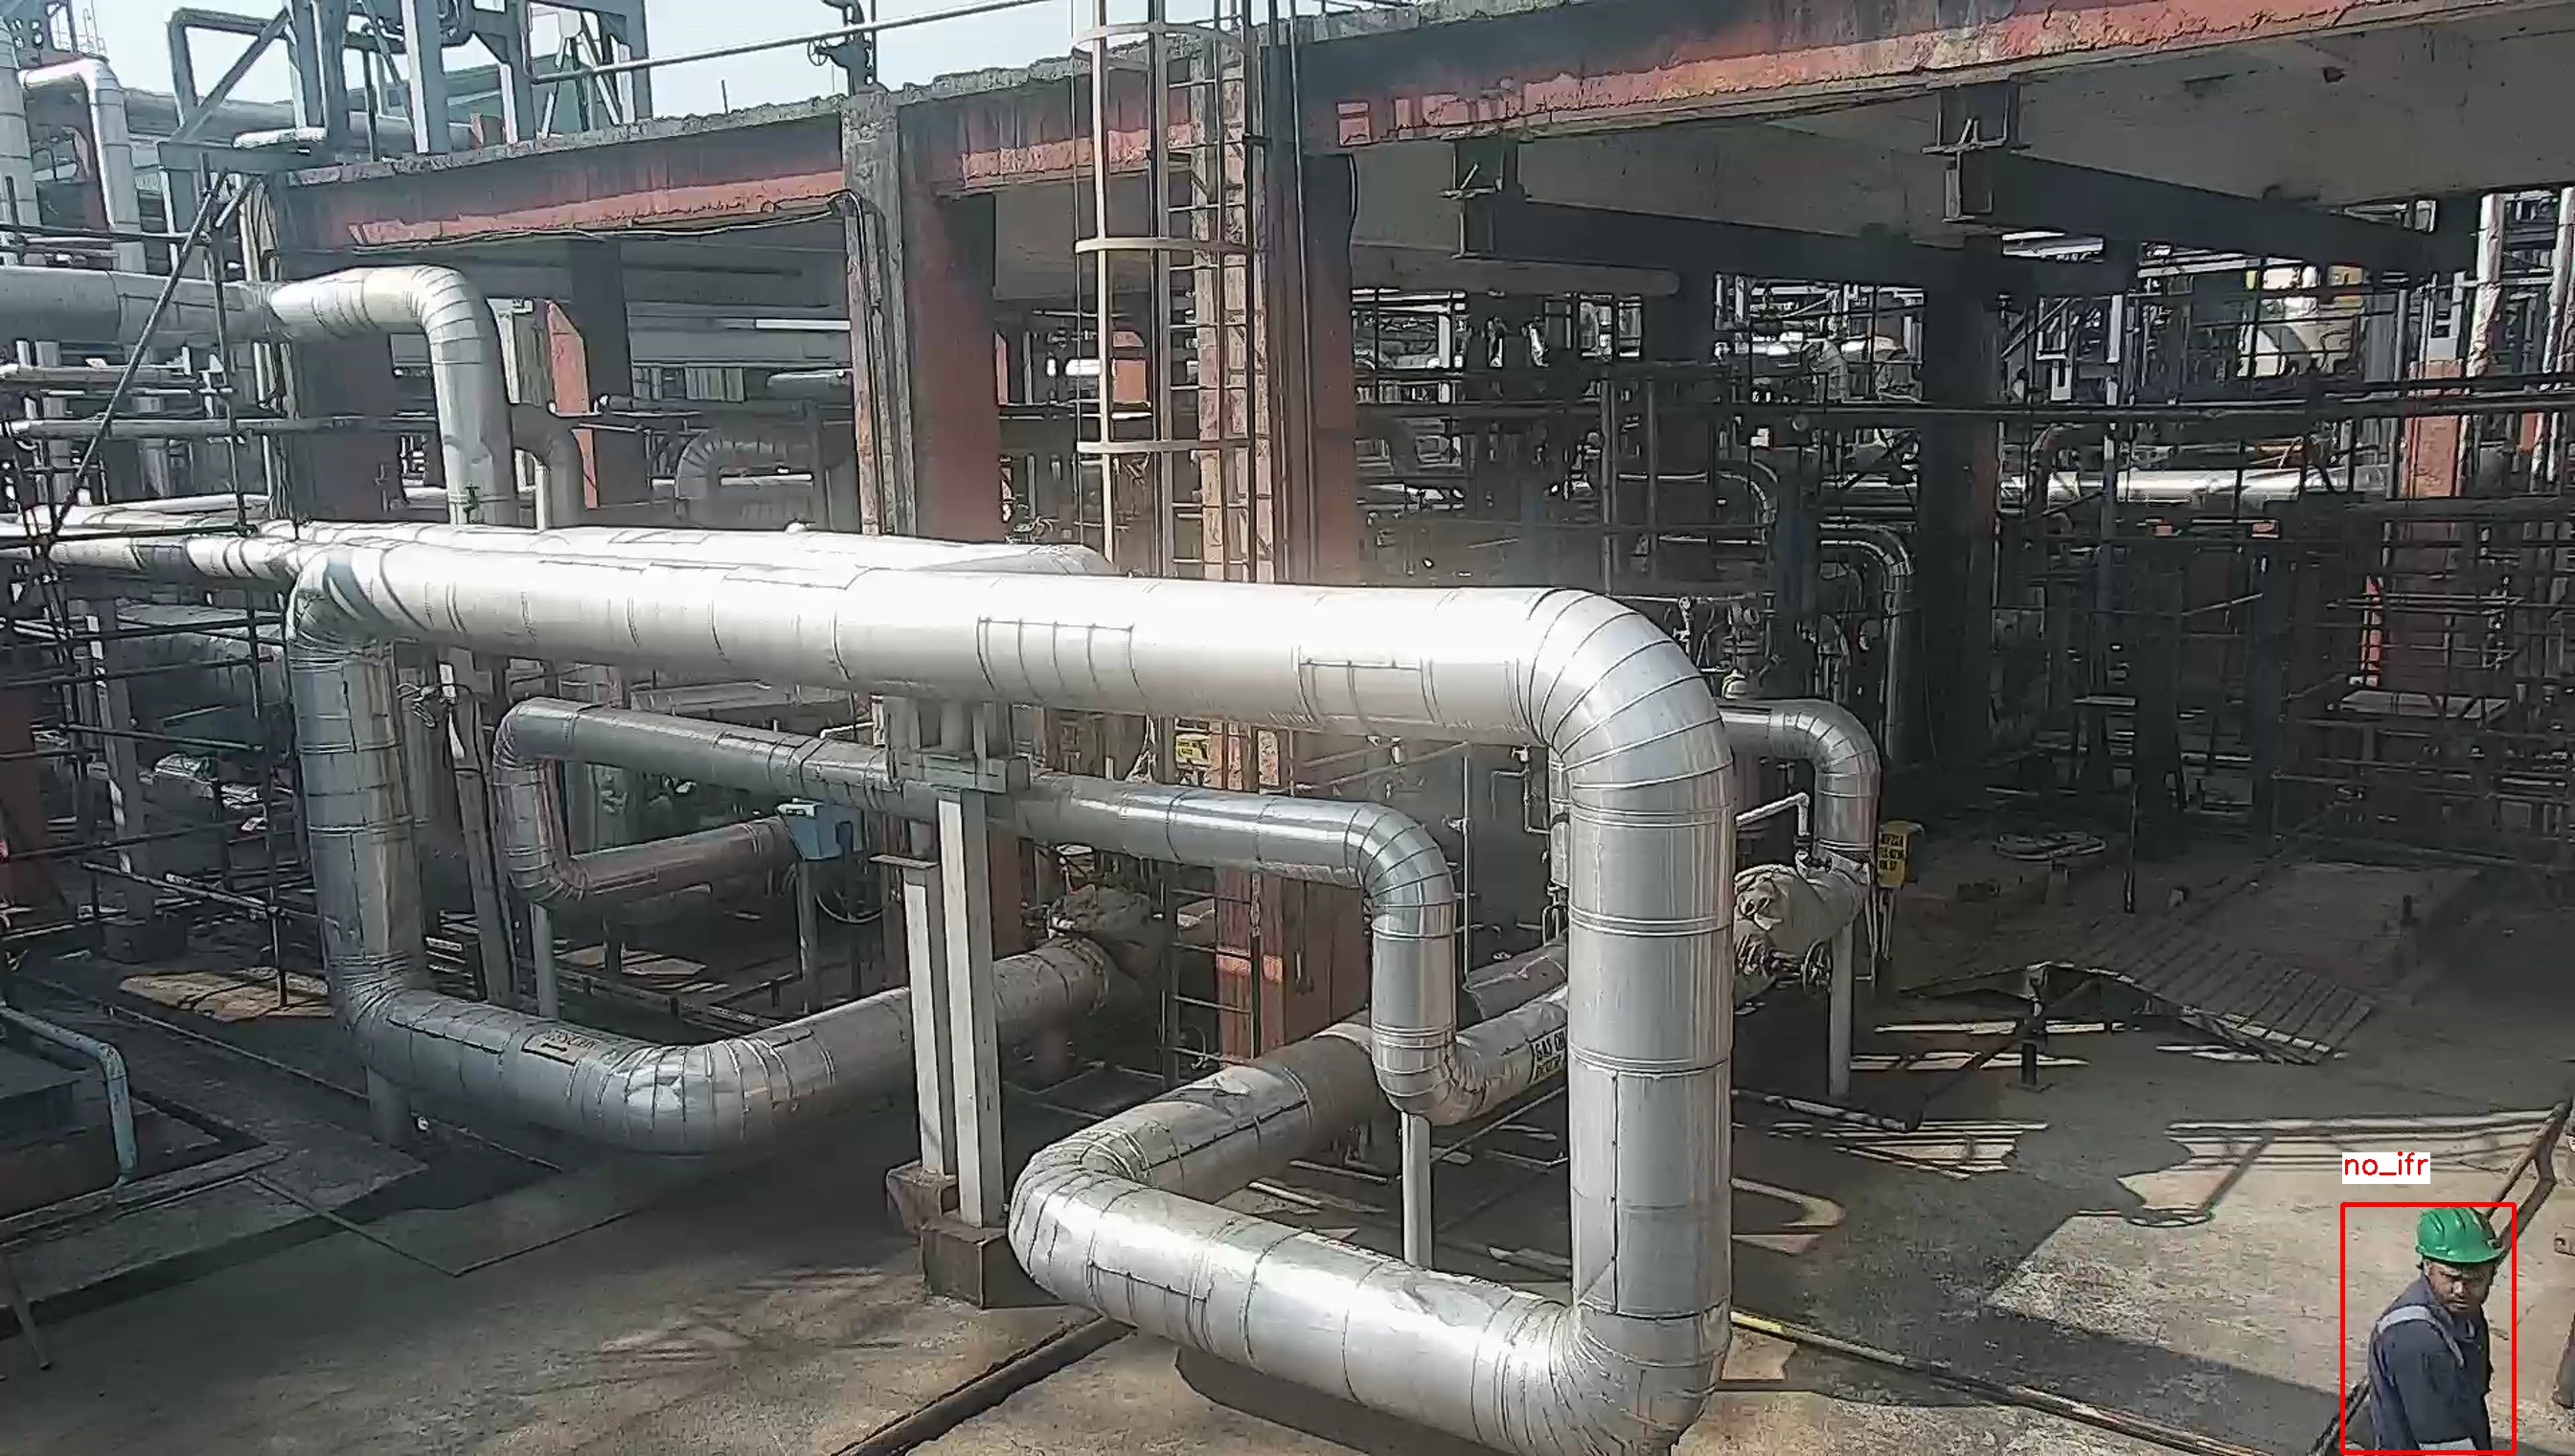Helmets: (2409, 1203, 2511, 1270)
